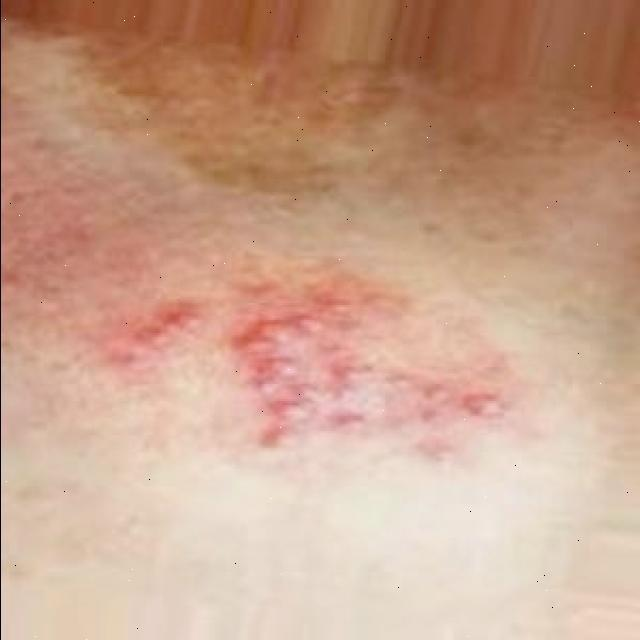Shingles: (108, 284, 508, 463)
